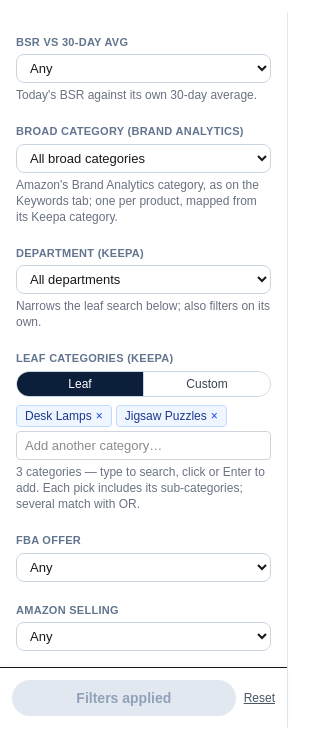
ProductFilterPanel categories (spec 2026-10-12 §5.1) › Leaf → Custom → Leaf without Apply keeps the chips and is no change
(page scrolled)
Click the button "Custom" at (206, 384), box [143,372,270,396]
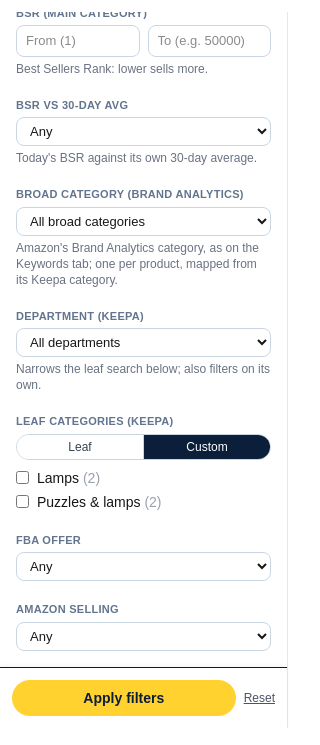
Expected: the button "Apply filters" is enabled, [12,680,236,716]
Click the button "Leaf" at (80, 446), box [17,434,143,458]
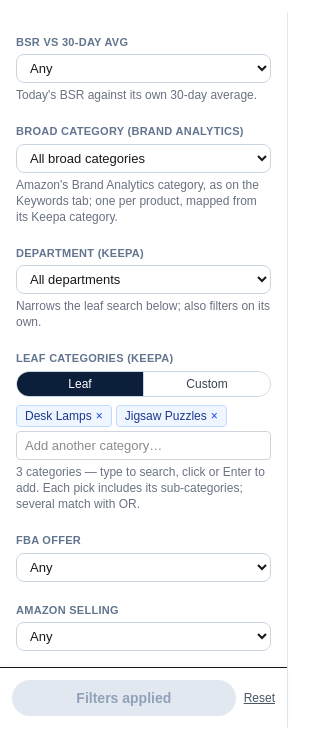
Expected: the number of buttons named "Remove " is 2, [96,410,103,422]; [211,410,218,422]
Expected: the button "Filters applied" is disabled, [12,680,236,716]
